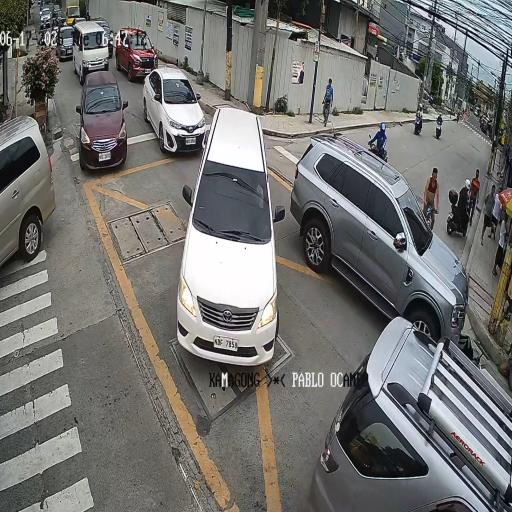Car: (302, 293, 512, 512), (288, 123, 461, 350), (175, 100, 300, 381), (0, 104, 64, 264), (69, 71, 135, 178), (138, 58, 207, 160)
Motor: (362, 119, 392, 165)
